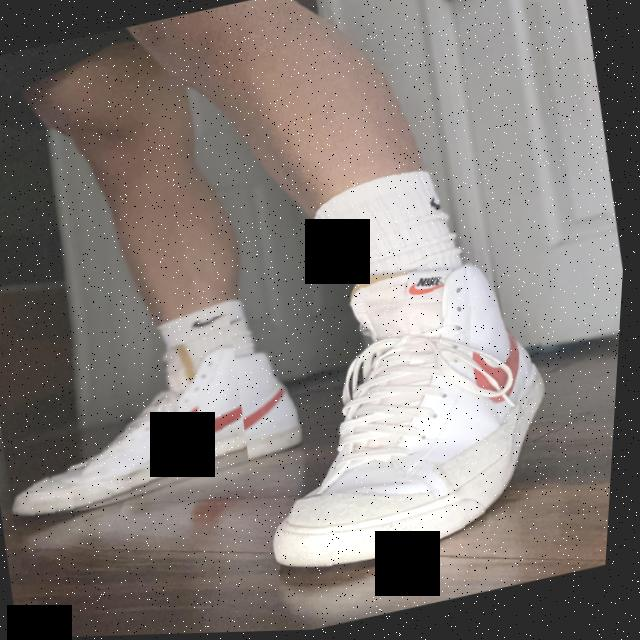shoe: (218, 241, 588, 602), (0, 302, 323, 530)
